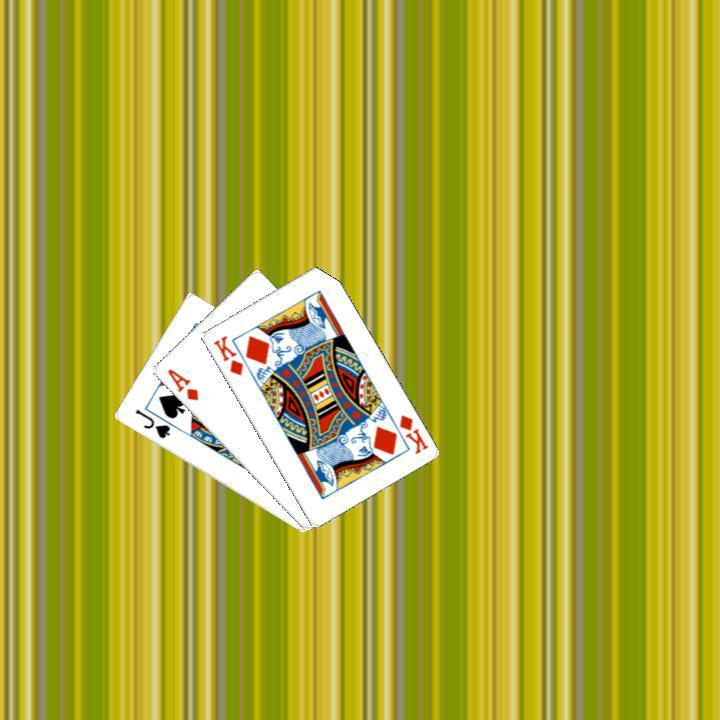A: (163, 364, 200, 403)
J: (130, 405, 172, 441)
K: (209, 331, 245, 378), (394, 410, 430, 456)
